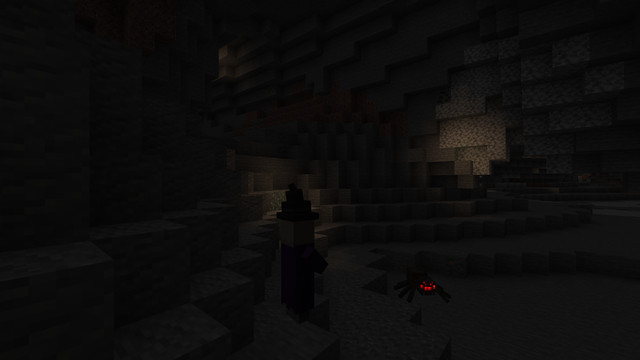araignees: (397, 264, 444, 306)
sorcieres: (275, 212, 319, 329)
